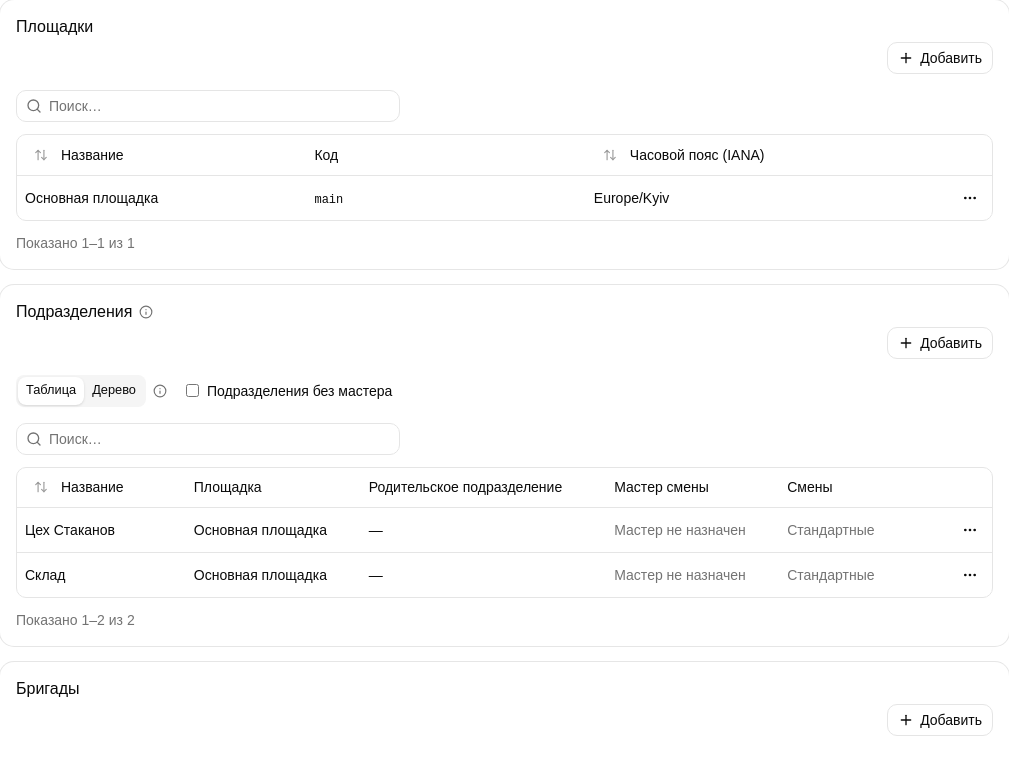
Scenario: DirectoriesTab units › opens the unit Sheet from a row click
Click the text "Цех Стаканов".
click(70, 530)  # box x1=25 y1=520 x2=115 y2=540
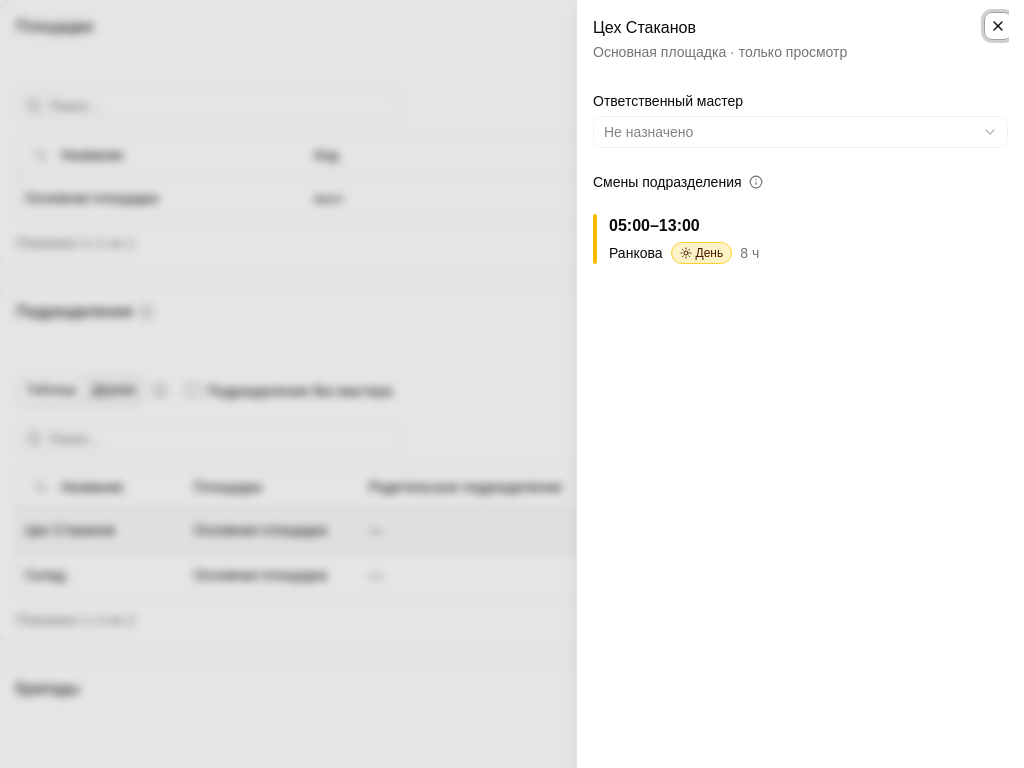
Expected: the heading "Цех Стаканов" is shown, x1=593 y1=19 x2=696 y2=36
Expected: the heading "Смены подразделения" is shown, x1=593 y1=172 x2=766 y2=192
